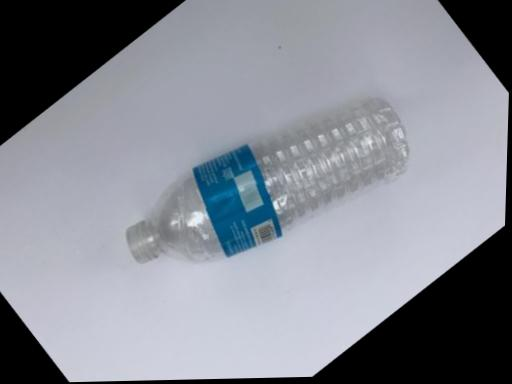plastic: (113, 79, 419, 342)
